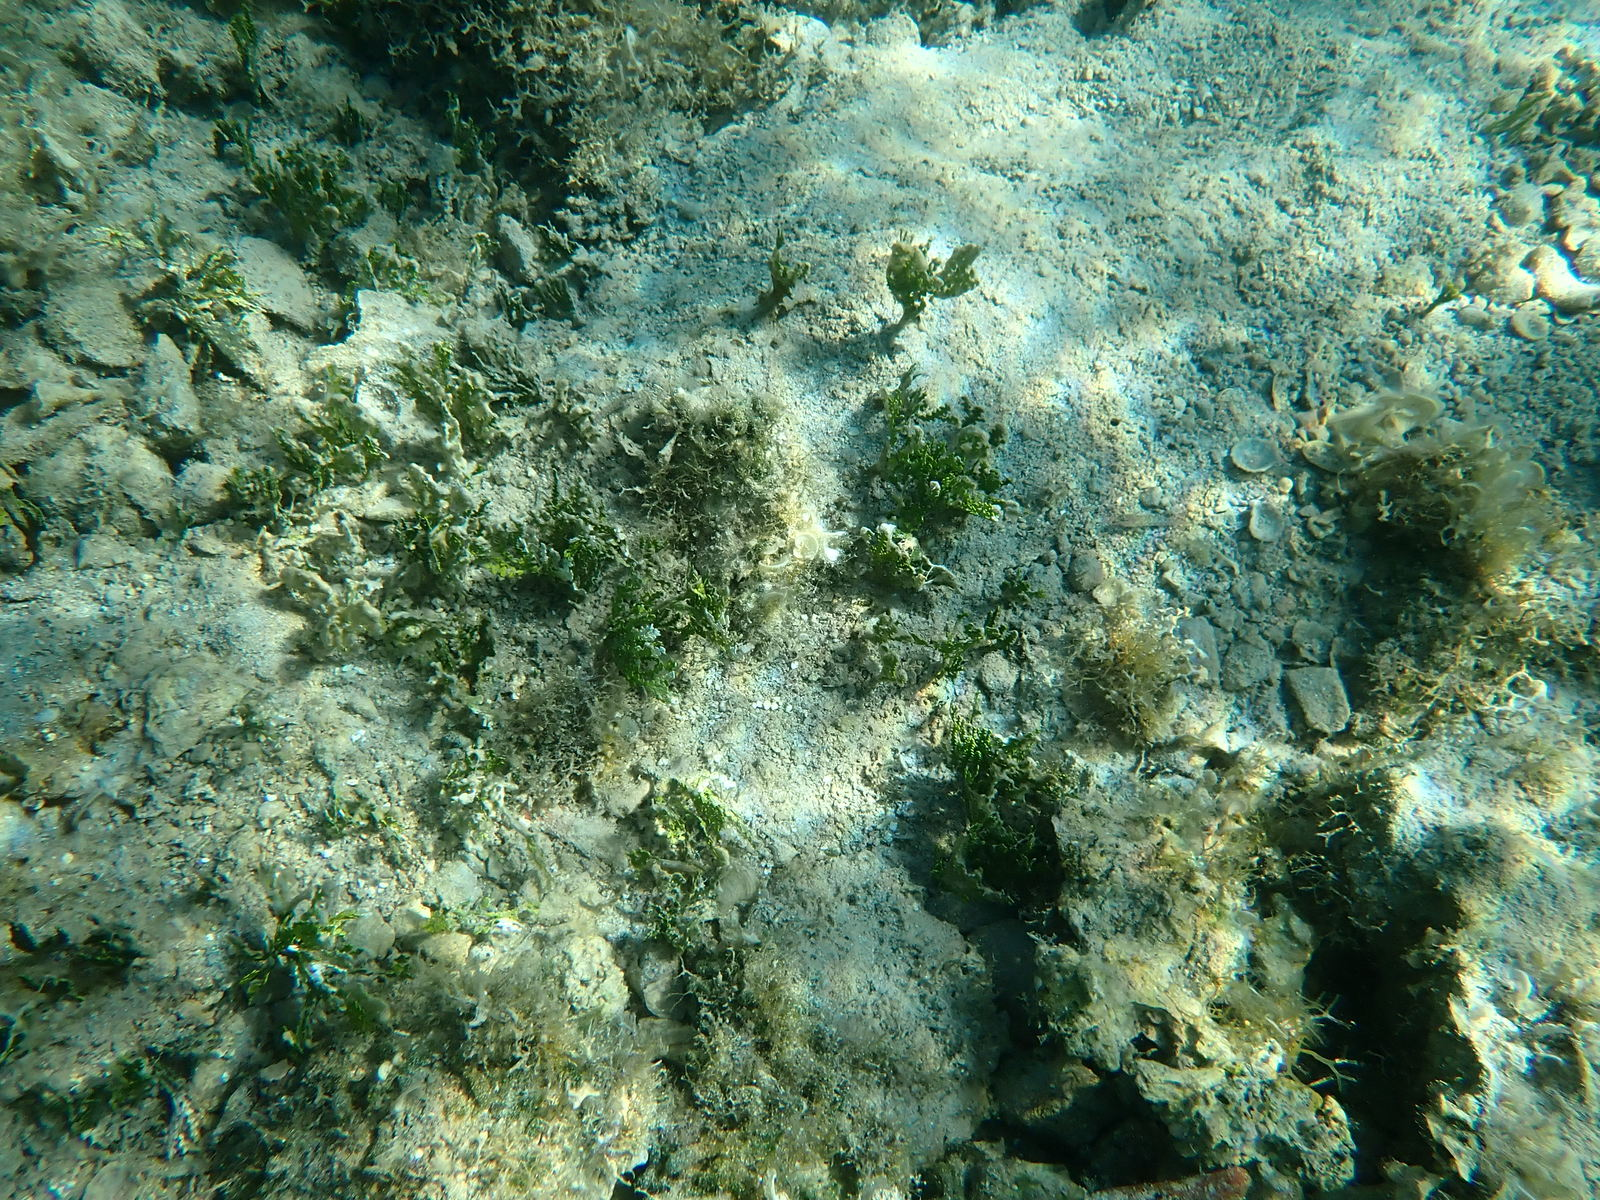halimeda: (231, 867, 375, 1037), (278, 568, 389, 655), (253, 145, 341, 246), (402, 464, 476, 572), (883, 232, 979, 315), (391, 595, 495, 666), (614, 575, 670, 700), (169, 243, 257, 313), (653, 776, 724, 858), (440, 747, 510, 827), (859, 524, 935, 590), (645, 872, 709, 948), (477, 538, 583, 584), (194, 306, 258, 379), (687, 574, 740, 650), (922, 476, 1003, 522), (272, 426, 335, 484), (445, 97, 495, 166), (228, 465, 287, 523), (401, 342, 454, 405), (469, 894, 544, 938), (884, 437, 965, 478), (320, 367, 364, 439), (163, 1078, 202, 1155), (369, 250, 430, 297), (93, 1063, 169, 1100), (134, 223, 191, 272), (548, 471, 605, 519), (459, 374, 498, 444), (228, 3, 257, 88), (771, 229, 809, 292), (561, 377, 595, 441), (215, 115, 257, 166), (881, 386, 932, 426), (973, 813, 1022, 855), (950, 708, 978, 782), (980, 729, 1039, 761), (498, 284, 537, 326), (871, 613, 921, 645), (1002, 563, 1044, 600), (331, 93, 363, 142), (968, 621, 1017, 648), (92, 223, 134, 253), (537, 280, 574, 313), (430, 165, 454, 216), (937, 633, 966, 673), (375, 182, 409, 216), (879, 647, 905, 689), (328, 798, 353, 834), (339, 187, 363, 222), (425, 909, 455, 937), (359, 437, 384, 470), (627, 846, 654, 874), (957, 397, 981, 427), (900, 362, 923, 391), (927, 403, 956, 427), (906, 426, 925, 463), (472, 232, 494, 258), (990, 424, 1004, 451), (640, 536, 664, 550), (510, 514, 524, 536), (986, 608, 998, 632), (380, 818, 397, 831), (975, 691, 978, 708)
